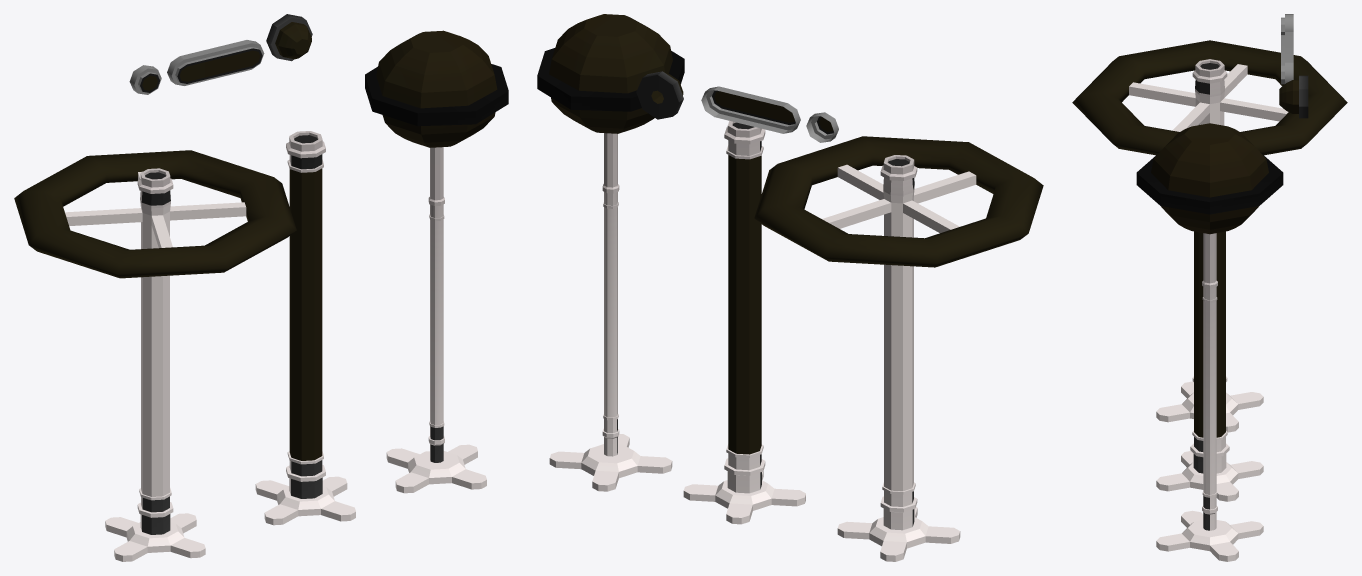
File: Iluminacion01.fbx
3 renders of one model, left to right at view 1: azimuth 30°, elevation 25°; view 2: azimuth 150°, elevation 25°; view 3: azimuth 270°, elevation 25°, orthographic. The views are drawn at different scales.
Parts seen in each view (by area): view 1: LamparaPie01, LamparaPie003, LamparaPie02, LuzPared02, Object001, LuzPared01; view 2: LamparaPie01, LamparaPie003, LamparaPie02, LuzPared02, Object001, LuzPared01; view 3: LamparaPie01, LamparaPie003, LamparaPie02, Object001, LuzPared02.
Boxes of the visible parts, x1,y1,x2,y2 form: LamparaPie01: (14, 150, 296, 561); LamparaPie003: (365, 30, 508, 493); LamparaPie02: (255, 131, 355, 525); LuzPared02: (167, 40, 264, 85); Object001: (266, 14, 312, 61); LuzPared01: (129, 65, 161, 94); LamparaPie01: (754, 136, 1043, 561); LamparaPie003: (537, 14, 684, 491); LamparaPie02: (683, 121, 805, 524); LuzPared02: (701, 86, 800, 133); Object001: (636, 71, 683, 119); LuzPared01: (806, 112, 838, 142); LamparaPie01: (1072, 40, 1347, 432); LamparaPie003: (1136, 123, 1283, 561); LamparaPie02: (1156, 231, 1263, 501); Object001: (1279, 75, 1308, 118); LuzPared02: (1281, 31, 1293, 84).
Bounding box in the file's own units: 44.33 × 39.79 × 23.78.
Materials: 1 (1 with a texture image).
